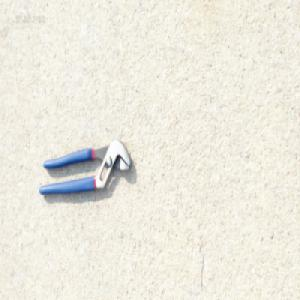Pliers: (37, 136, 132, 198)
